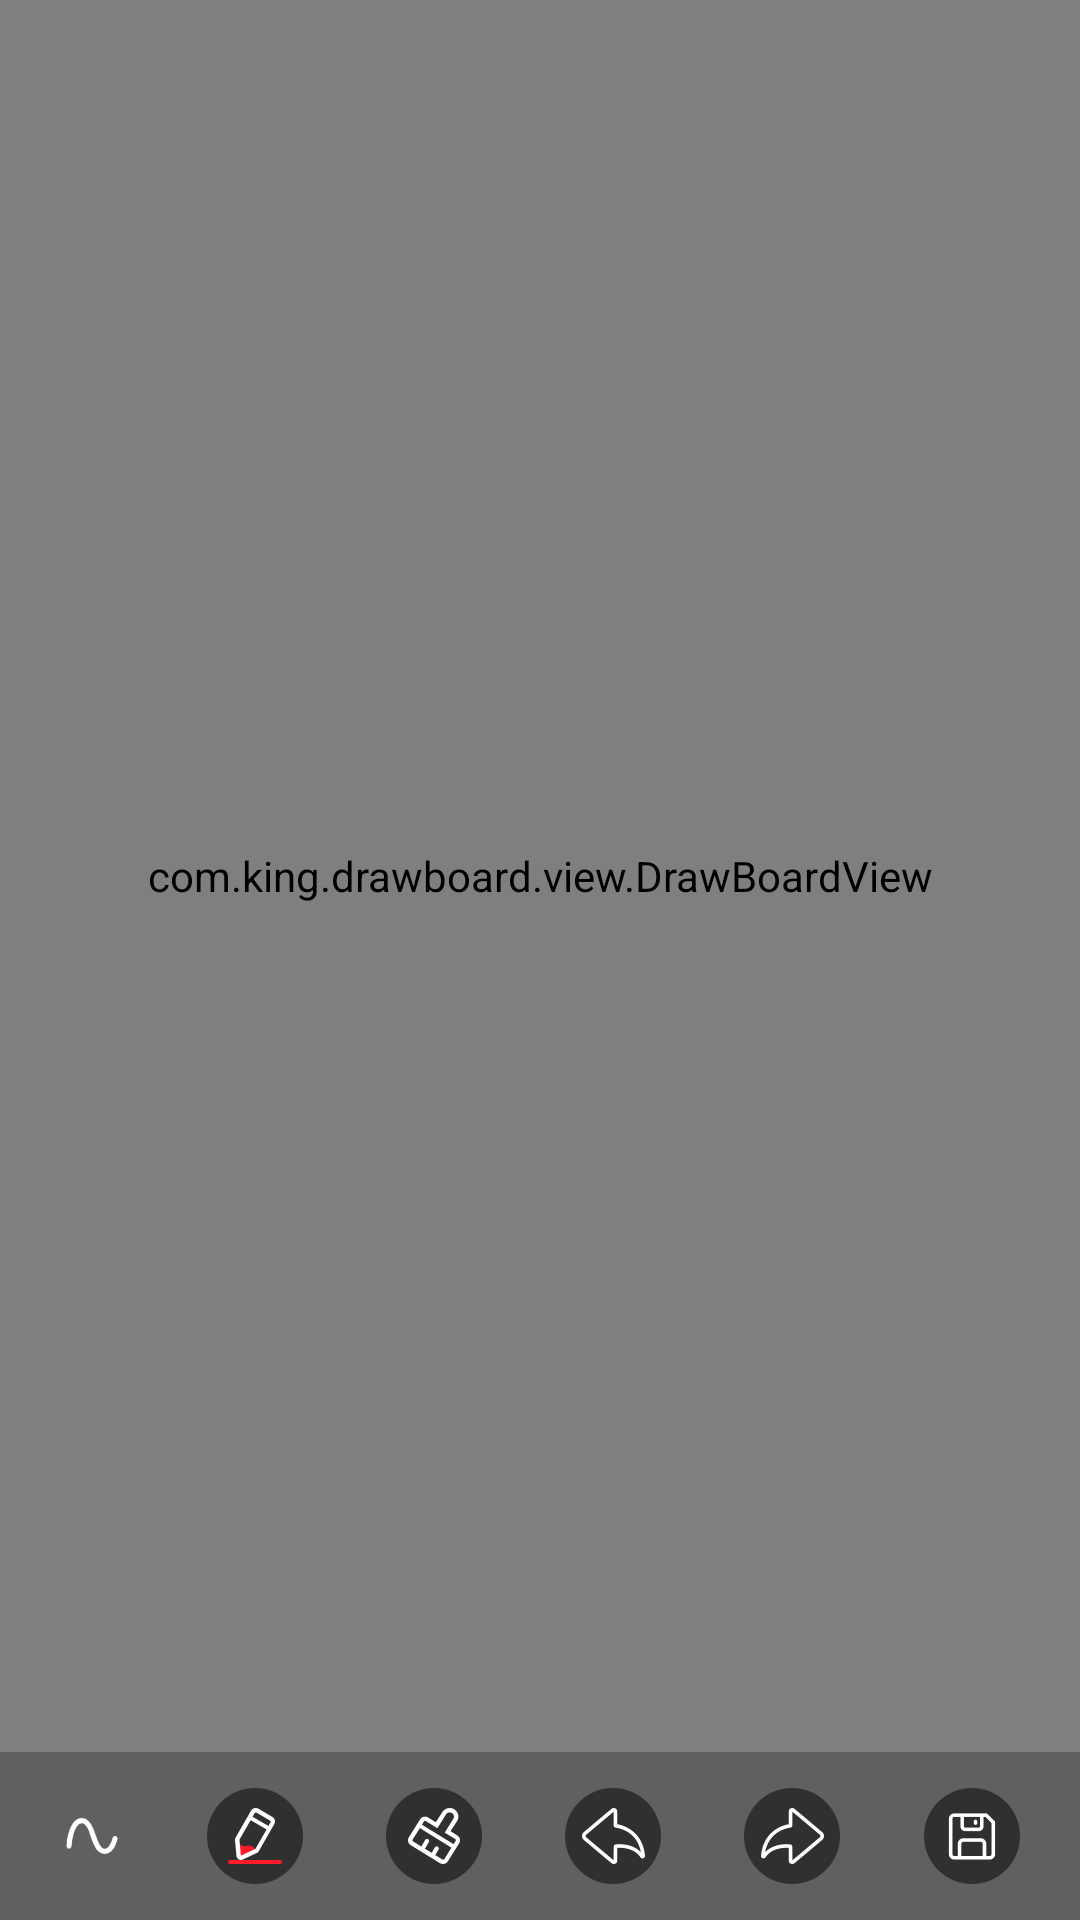

Icon bounding boxes for this 1080px×1920px phone screenshot, format {"x1": x1, "y1": y1, "x2": x2, "y2": y2}:
clear: {"x1": 386, "y1": 1788, "x2": 482, "y2": 1884}
pen: {"x1": 207, "y1": 1788, "x2": 303, "y2": 1884}
redo: {"x1": 744, "y1": 1788, "x2": 840, "y2": 1884}
save: {"x1": 924, "y1": 1788, "x2": 1020, "y2": 1884}
undo: {"x1": 565, "y1": 1788, "x2": 661, "y2": 1884}
